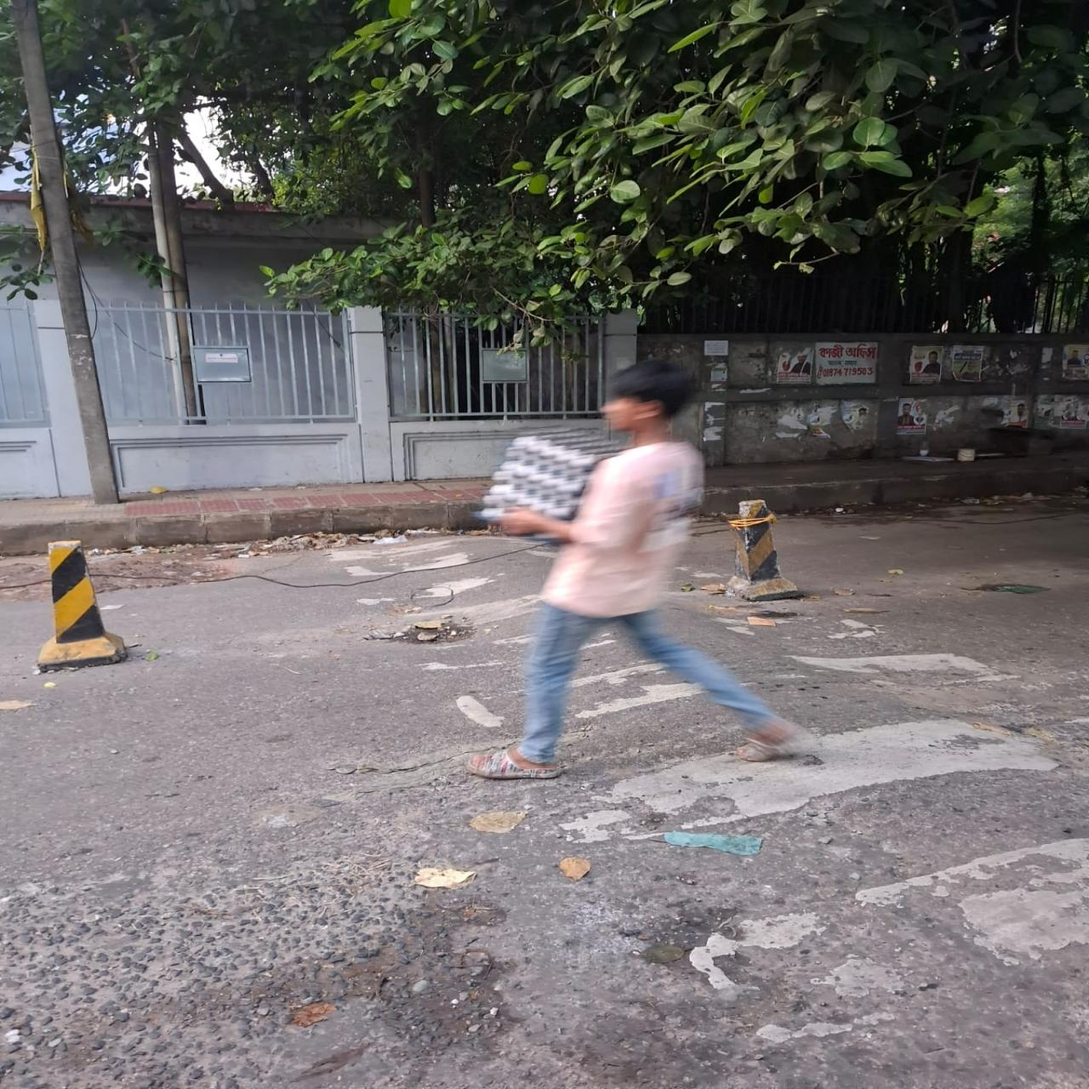person: (478, 359, 823, 778)
